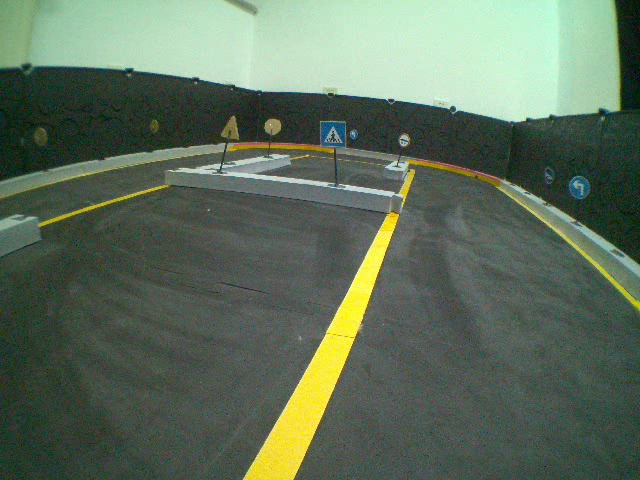Check: (398, 133, 411, 146)
crossing: (319, 120, 346, 147)
horn: (544, 166, 556, 185)
turn: (568, 176, 590, 200)
